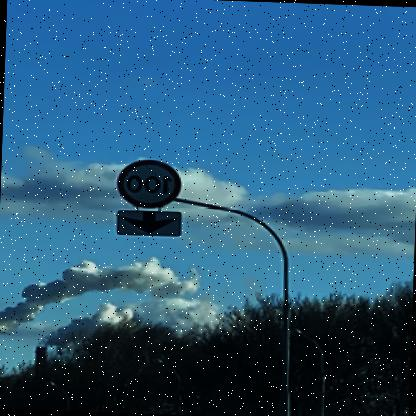speedlimit: (118, 158, 185, 208)
